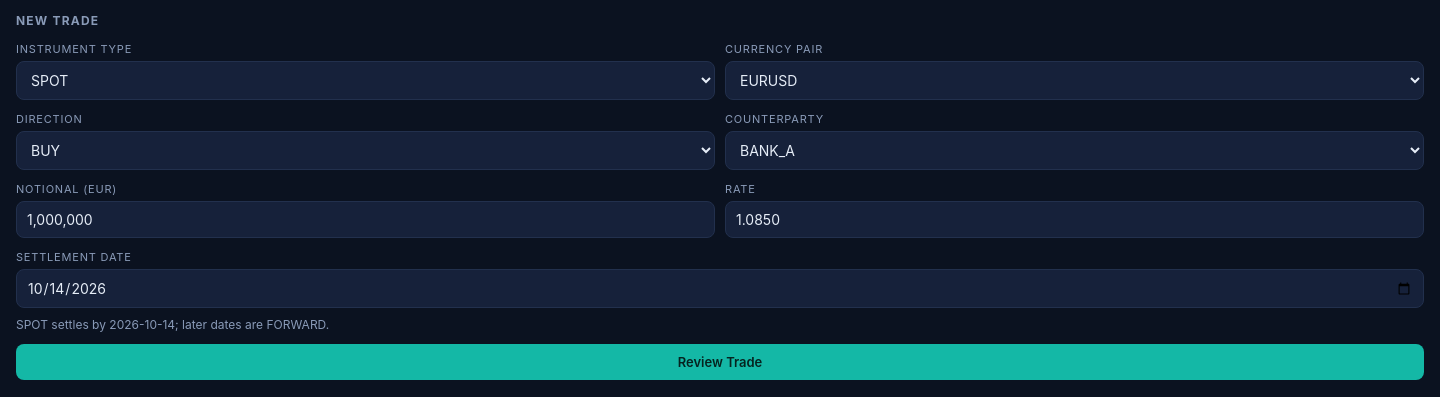
Test: NewTradeForm › groups thousands with commas in numeric inputs
Replace the text in the field labelled "Notional (EUR)" with "25000000" at (366, 220), box [16,201,715,238]
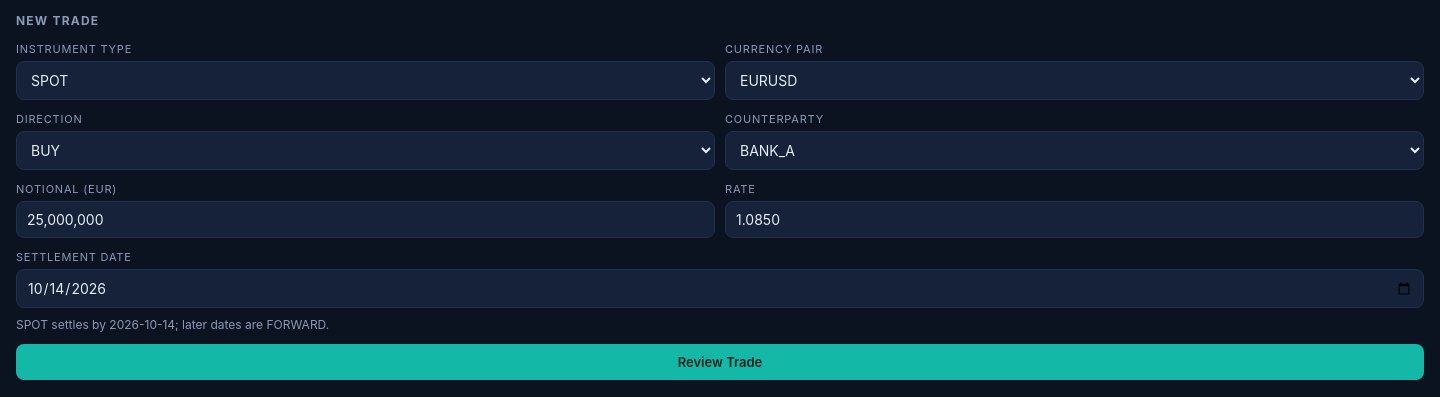
expect the field labelled "Notional (EUR)" holds "25,000,000": met, box [16,201,715,238]
